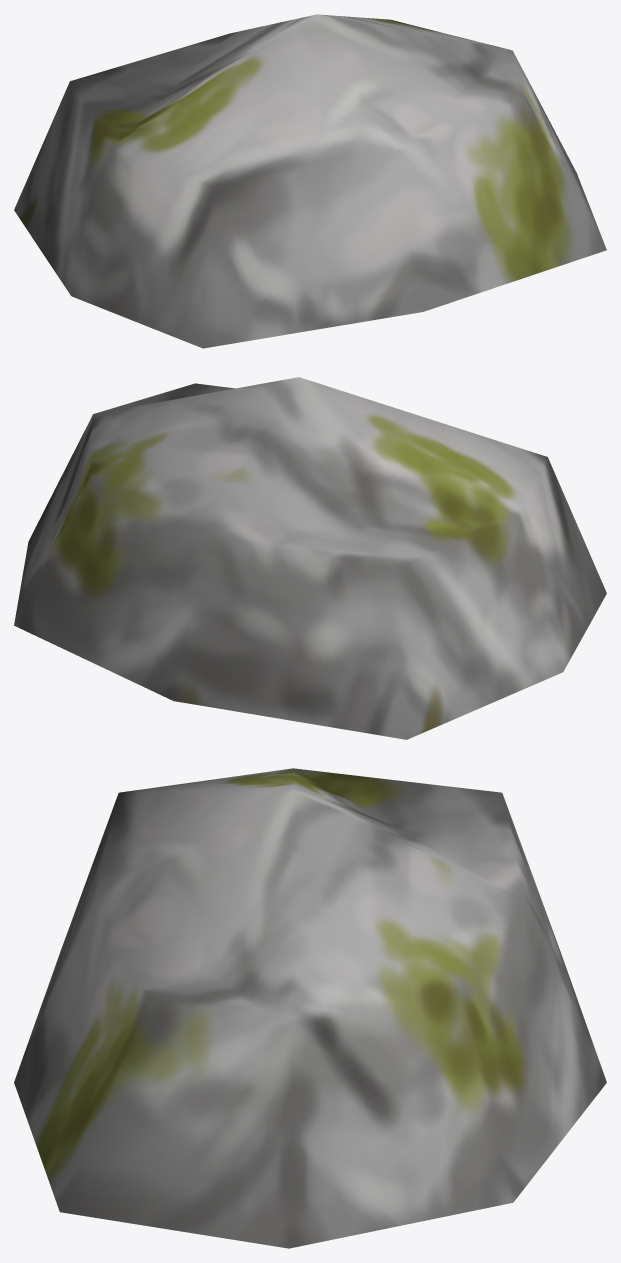
The model's file is Stone03.fbx.
3 renders of one model, top to bottom at view 1: azimuth 30°, elevation 25°; view 2: azimuth 150°, elevation 25°; view 3: azimuth 270°, elevation 25°, orthographic. The views are drawn at different scales.
Parts seen in each view (by area): view 1: pCube4; view 2: pCube4; view 3: pCube4.
Part boxes in pixels (x1,y1,x2,y2): pCube4: (14, 14, 606, 348); pCube4: (14, 377, 606, 739); pCube4: (14, 768, 606, 1248).
Size of the model in its own units: 0.9344 by 0.3884 by 0.7178.
